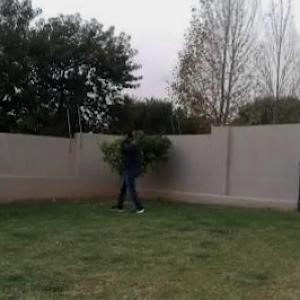follow: (119, 125, 142, 221)
